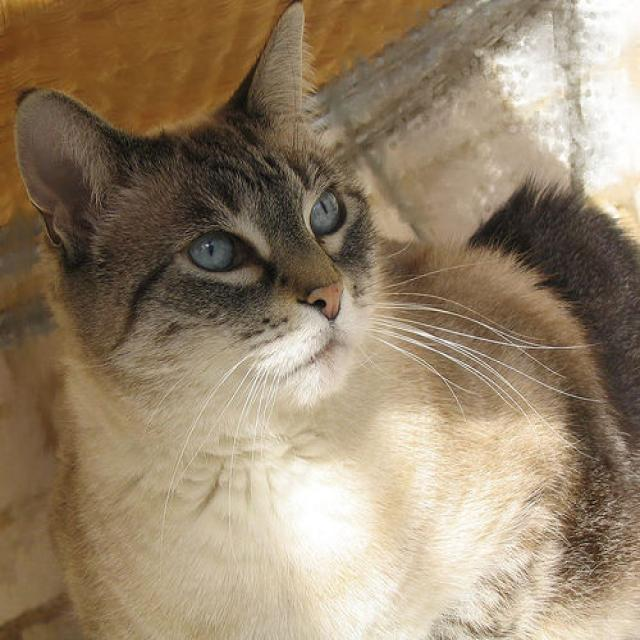cat: (13, 1, 640, 640)
